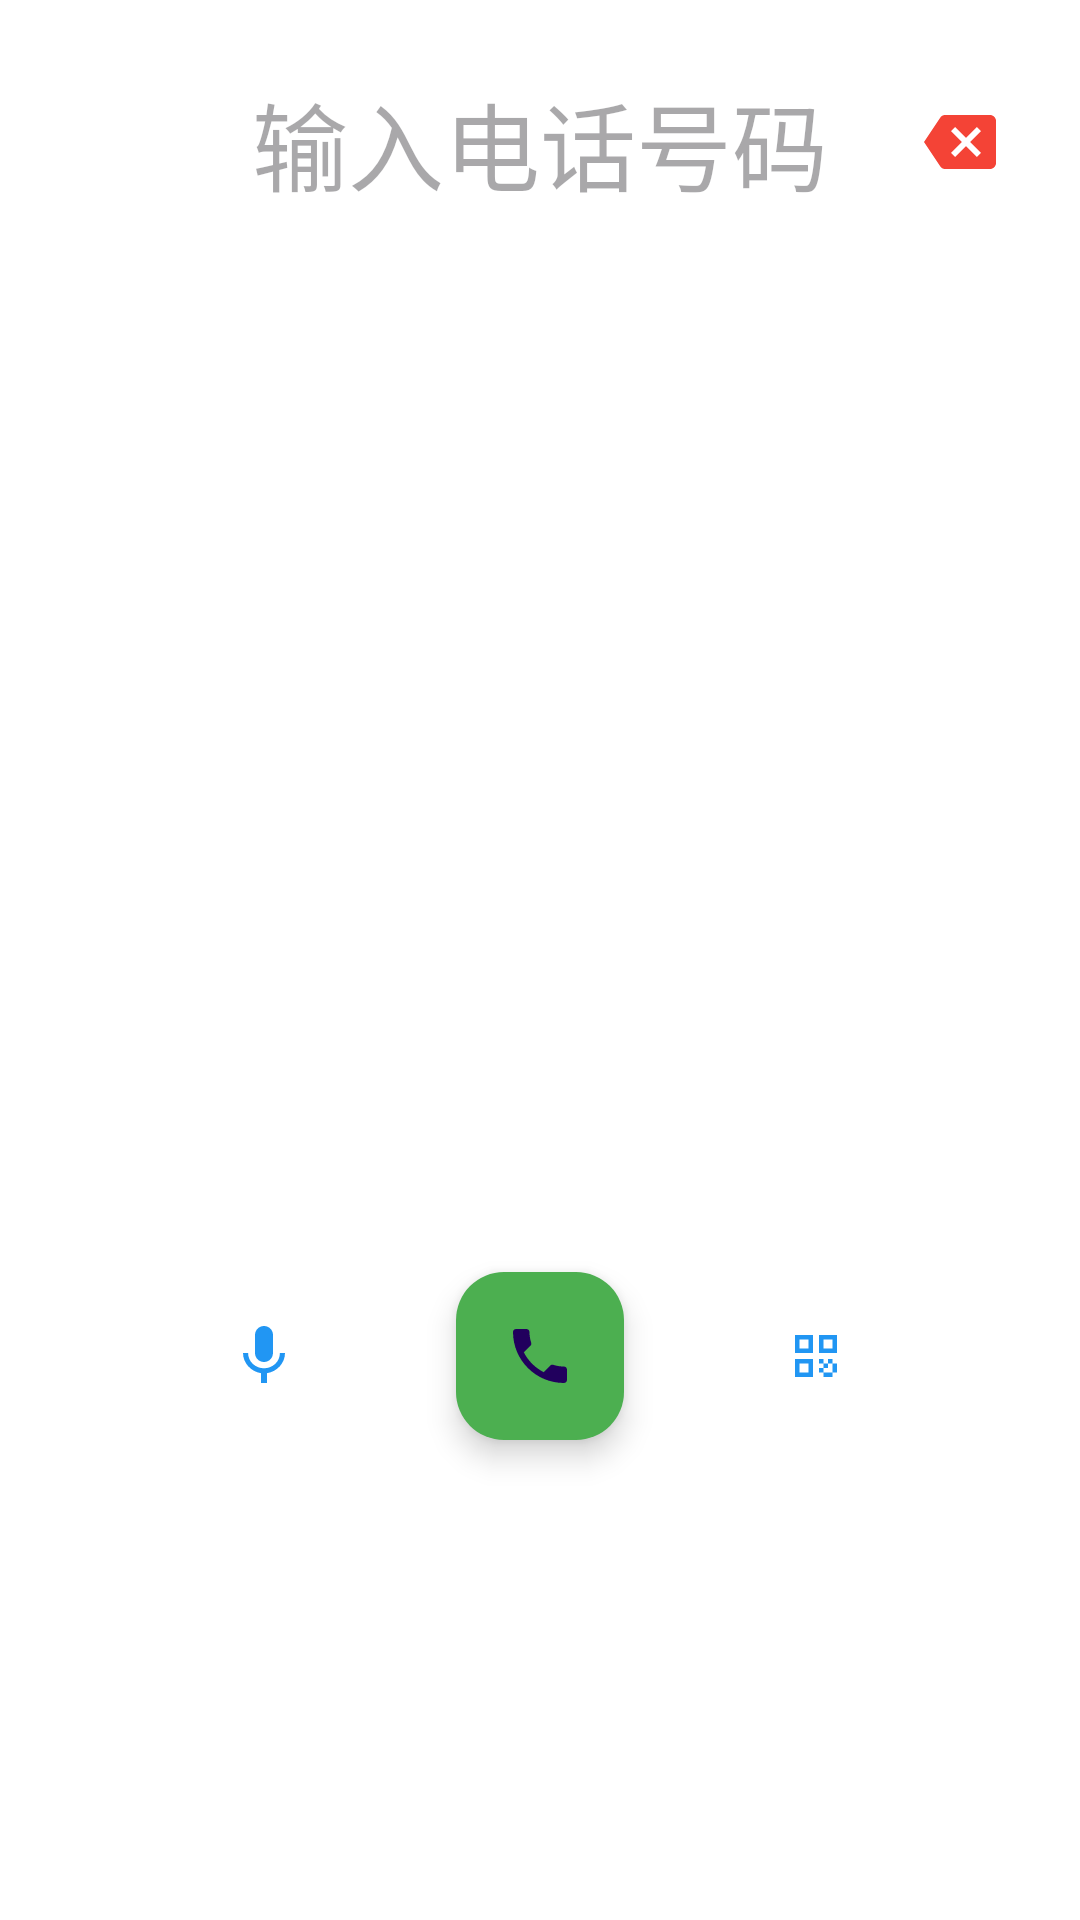

Where icons sit on this 1080x1920 app screen, as (x1, y1, x2, y2):
删除: (924, 115, 996, 169)
扫码拨号: (795, 1335, 837, 1377)
拨打: (456, 1272, 624, 1440)
语音拨号: (243, 1326, 285, 1383)
